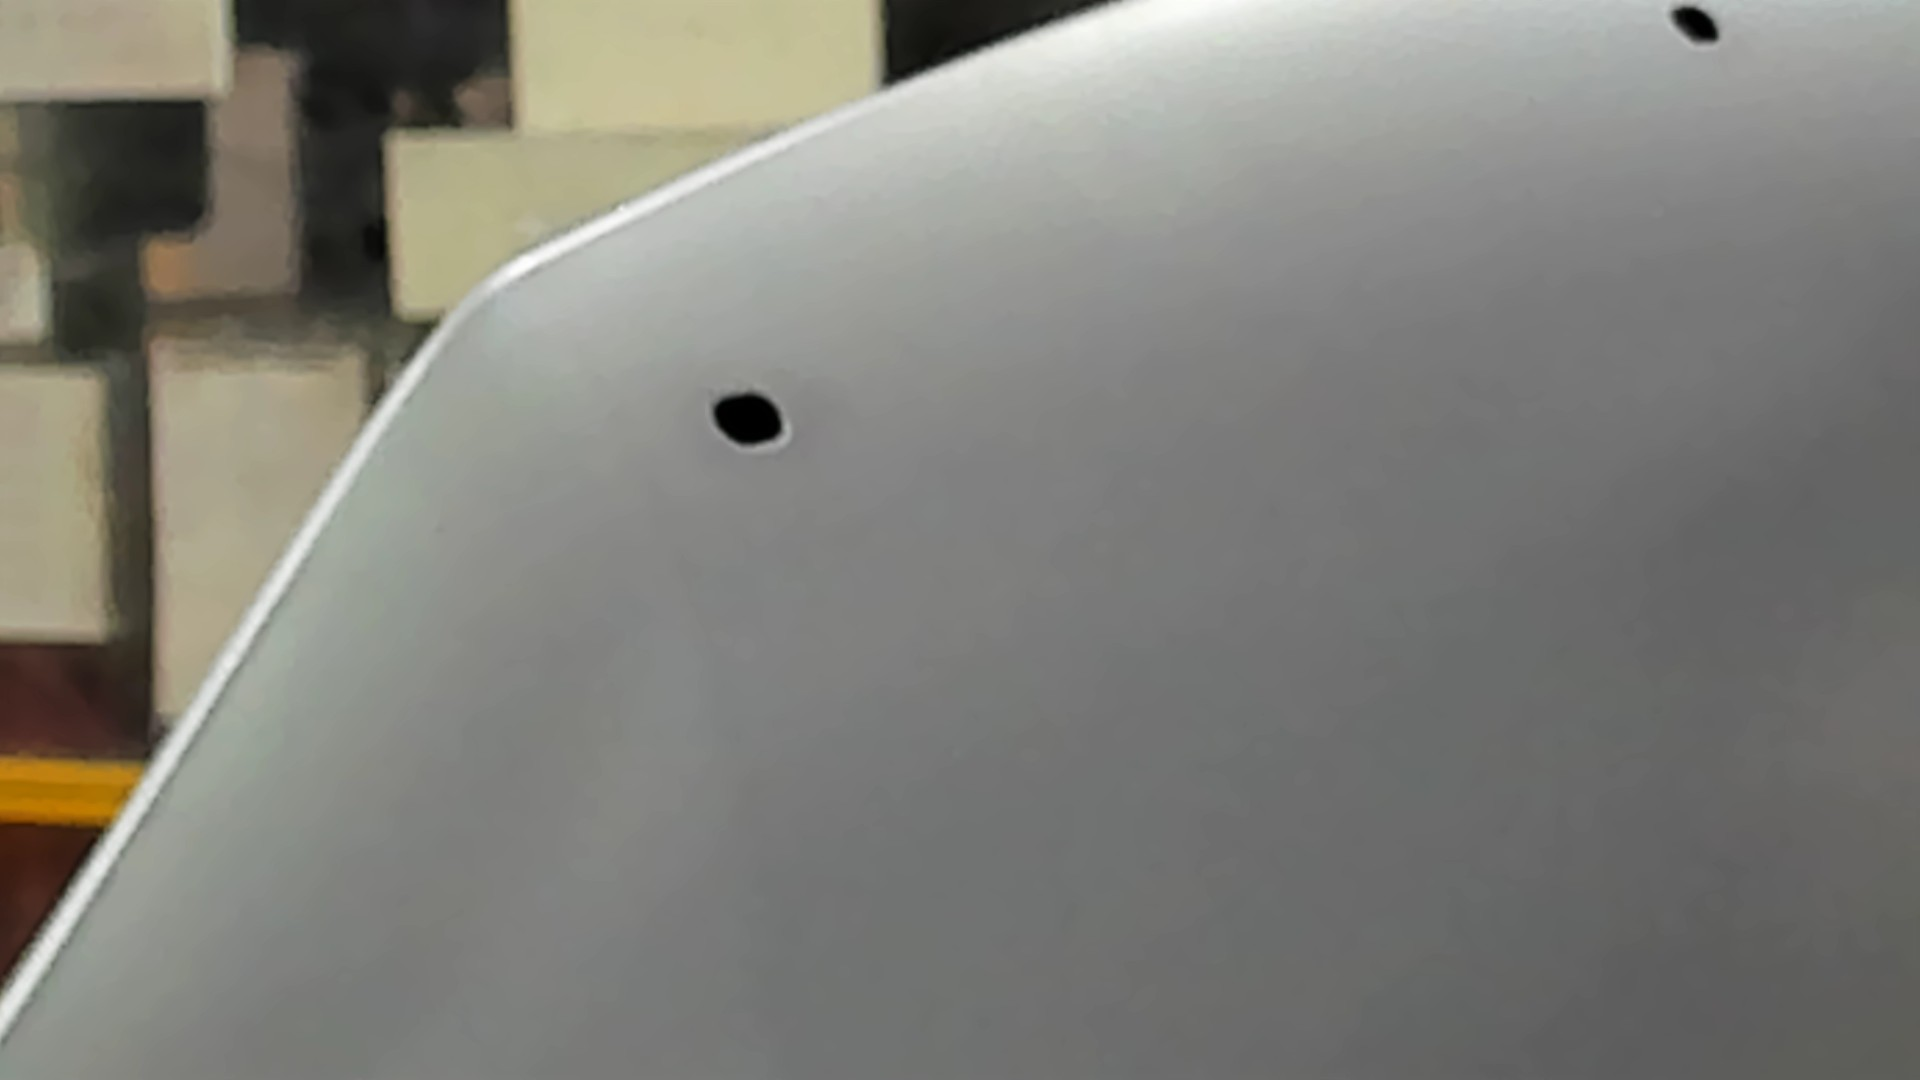amorfo: (698, 378, 795, 455), (1663, 1, 1734, 54)
capo: (895, 146, 1920, 1080)
